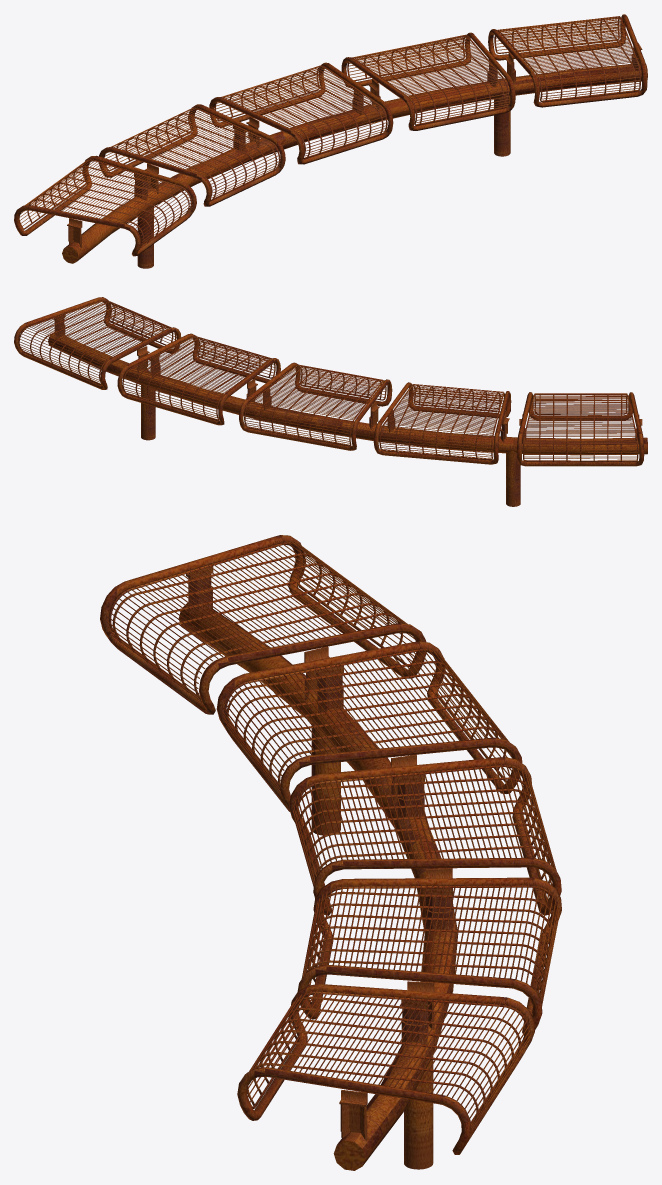
The picture shows the model from 3 angles, top to bottom: view 1: azimuth 30°, elevation 25°; view 2: azimuth 150°, elevation 25°; view 3: azimuth 270°, elevation 25°; orthographic projection. The views are drawn at different scales.
Parts seen in each view (by area): view 1: mesh191_mesh191-geometry, mesh7_mesh7-geometry, mesh12_mesh12-geometry, mesh13_mesh13-geometry, mesh10_mesh10-geometry, mesh189_mesh189-geometry, mesh8_mesh8-geometry, mesh1_mesh1-geometry, mesh3_mesh3-geometry, mesh43_mesh43-geometry, mesh34_mesh34-geometry, mesh35_mesh35-geometry (+49 smaller); view 2: mesh191_mesh191-geometry, mesh7_mesh7-geometry, mesh13_mesh13-geometry, mesh12_mesh12-geometry, mesh189_mesh189-geometry, mesh10_mesh10-geometry, mesh8_mesh8-geometry, mesh30_mesh30-geometry, mesh69_mesh69-geometry, mesh43_mesh43-geometry, mesh31_mesh31-geometry, mesh41_mesh41-geometry (+48 smaller); view 3: mesh7_mesh7-geometry, mesh13_mesh13-geometry, mesh12_mesh12-geometry, mesh191_mesh191-geometry, mesh189_mesh189-geometry, mesh8_mesh8-geometry, mesh1_mesh1-geometry, mesh5_mesh5-geometry, mesh3_mesh3-geometry, mesh28_mesh28-geometry, mesh34_mesh34-geometry, mesh43_mesh43-geometry (+26 smaller).
Boxes of the visible parts, bbox=[...] form: mesh191_mesh191-geometry: bbox=[65, 64, 647, 261]; mesh7_mesh7-geometry: bbox=[27, 19, 635, 247]; mesh12_mesh12-geometry: bbox=[14, 29, 589, 256]; mesh13_mesh13-geometry: bbox=[56, 14, 647, 236]; mesh10_mesh10-geometry: bbox=[55, 17, 640, 229]; mesh189_mesh189-geometry: bbox=[137, 94, 510, 268]; mesh8_mesh8-geometry: bbox=[19, 30, 589, 246]; mesh1_mesh1-geometry: bbox=[68, 46, 640, 244]; mesh3_mesh3-geometry: bbox=[69, 54, 638, 247]; mesh43_mesh43-geometry: bbox=[31, 16, 620, 204]; mesh34_mesh34-geometry: bbox=[28, 16, 619, 204]; mesh35_mesh35-geometry: bbox=[33, 18, 620, 205]; mesh191_mesh191-geometry: bbox=[48, 332, 647, 455]; mesh7_mesh7-geometry: bbox=[30, 302, 622, 461]; mesh13_mesh13-geometry: bbox=[14, 297, 580, 466]; mesh12_mesh12-geometry: bbox=[62, 327, 644, 466]; mesh189_mesh189-geometry: bbox=[141, 385, 520, 506]; mesh10_mesh10-geometry: bbox=[18, 300, 579, 461]; mesh8_mesh8-geometry: bbox=[62, 329, 638, 462]; mesh30_mesh30-geometry: bbox=[19, 346, 637, 457]; mesh69_mesh69-geometry: bbox=[21, 333, 637, 444]; mesh43_mesh43-geometry: bbox=[28, 326, 636, 435]; mesh31_mesh31-geometry: bbox=[39, 322, 634, 429]; mesh41_mesh41-geometry: bbox=[52, 317, 633, 422]; mesh7_mesh7-geometry: bbox=[112, 553, 555, 1128]; mesh13_mesh13-geometry: bbox=[160, 623, 561, 1154]; mesh12_mesh12-geometry: bbox=[100, 535, 561, 1104]; mesh191_mesh191-geometry: bbox=[178, 603, 458, 1170]; mesh189_mesh189-geometry: bbox=[311, 723, 433, 1169]; mesh8_mesh8-geometry: bbox=[108, 542, 558, 1068]; mesh1_mesh1-geometry: bbox=[188, 574, 452, 1134]; mesh5_mesh5-geometry: bbox=[186, 566, 453, 1106]; mesh3_mesh3-geometry: bbox=[189, 587, 452, 1140]; mesh28_mesh28-geometry: bbox=[294, 541, 545, 1100]; mesh34_mesh34-geometry: bbox=[289, 540, 539, 1098]; mesh43_mesh43-geometry: bbox=[285, 541, 534, 1096].
Size of the model in its own units: 0.9376 by 0.1377 by 0.3192.
